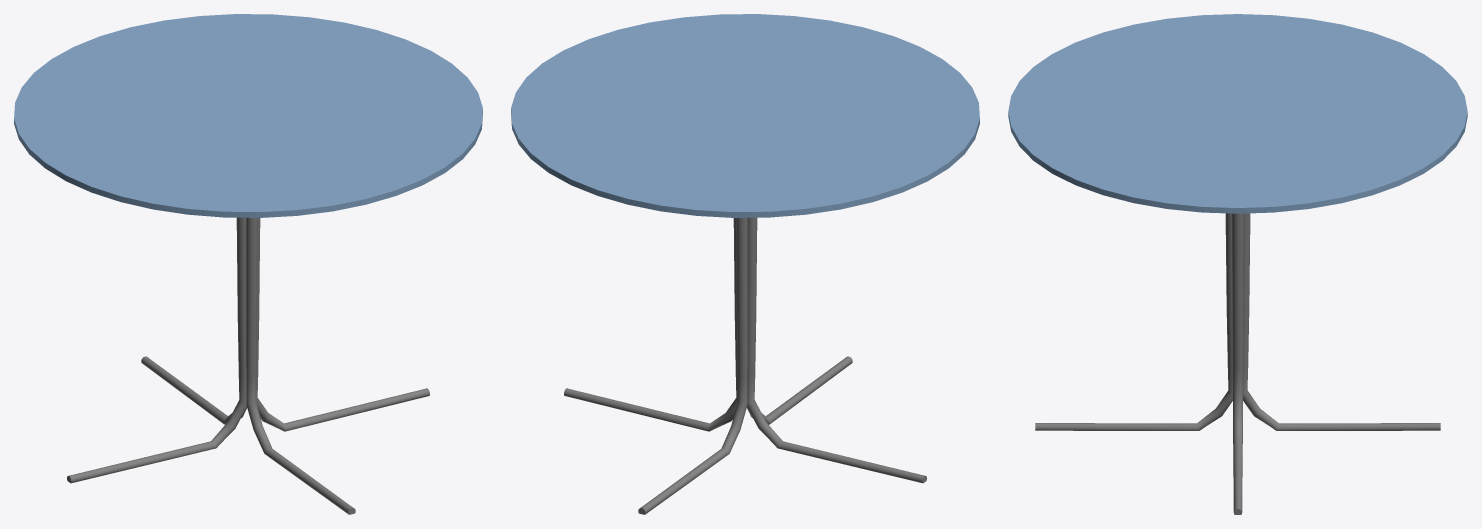
The model's file is SM_TableGlass.FBX.
The picture shows the model from 3 angles, left to right: view 1: azimuth 30°, elevation 25°; view 2: azimuth 150°, elevation 25°; view 3: azimuth 270°, elevation 25°; orthographic projection. The views are drawn at different scales.
Parts seen in each view (by area): view 1: SM_TableGlass_LOD0; view 2: SM_TableGlass_LOD0; view 3: SM_TableGlass_LOD0.
Boxes of the visible parts, left/top/right/bottom form: SM_TableGlass_LOD0: left=14, top=14, right=482, bottom=514; SM_TableGlass_LOD0: left=511, top=14, right=979, bottom=514; SM_TableGlass_LOD0: left=1008, top=14, right=1467, bottom=514.
Size of what is drawn, in the model's own units: 85.91 by 65.69 by 85.91.
